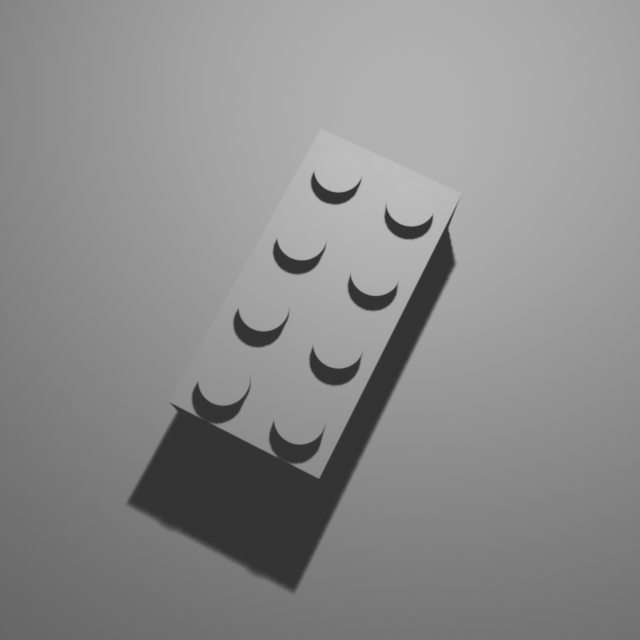lego_2x4: (166, 121, 464, 487)
